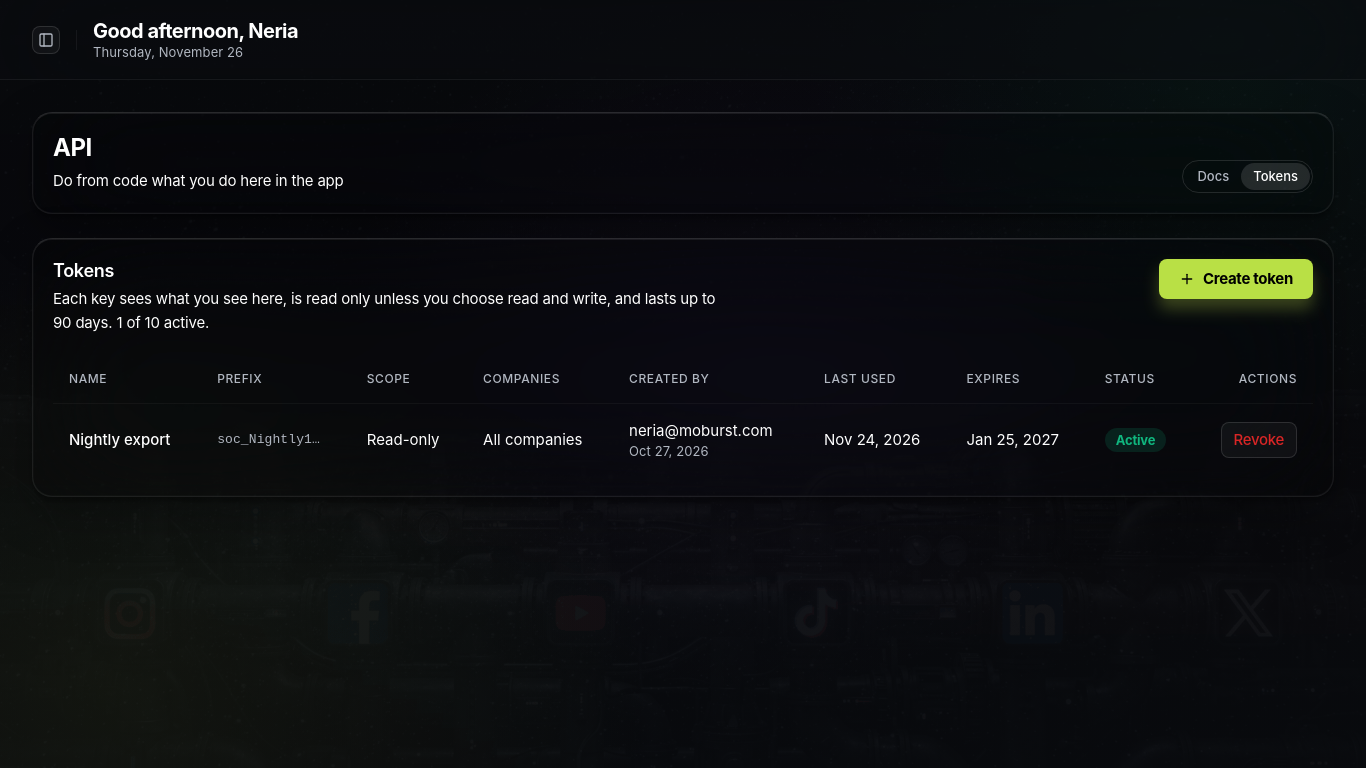
Scenario: a new key whose reply is lost, rate limited, or shown once › after no reply at all, never sends the key again: reads the list again and says to check it first
This screenshot has width=1366, height=768.
Expected: the text "Nightly export" is shown, 53,403 -> 201,476
Step 1. Click the button "Create token" → click(1236, 279), box 1159,259 -> 1313,299
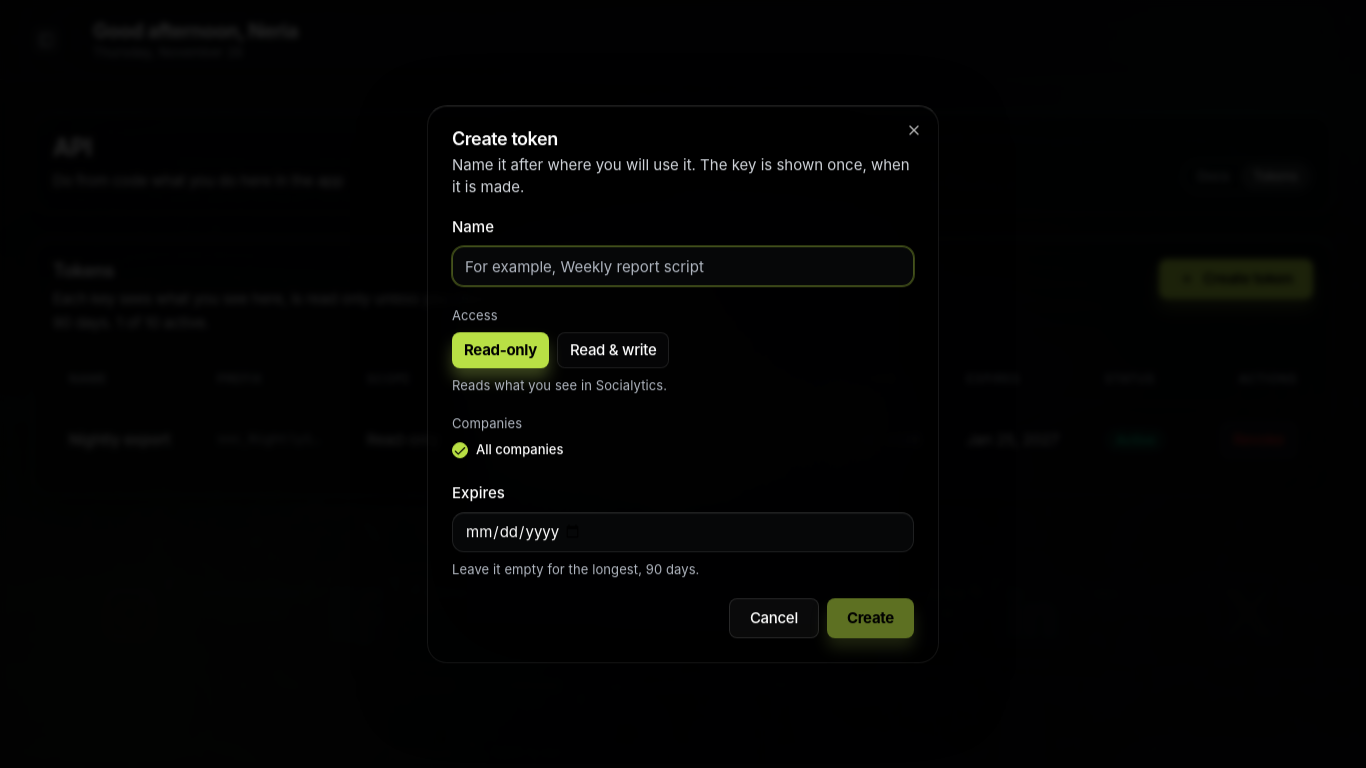
Step 2. Type "Reporting script" into the field labelled "Name" → (683, 266), box 452,246 -> 914,286
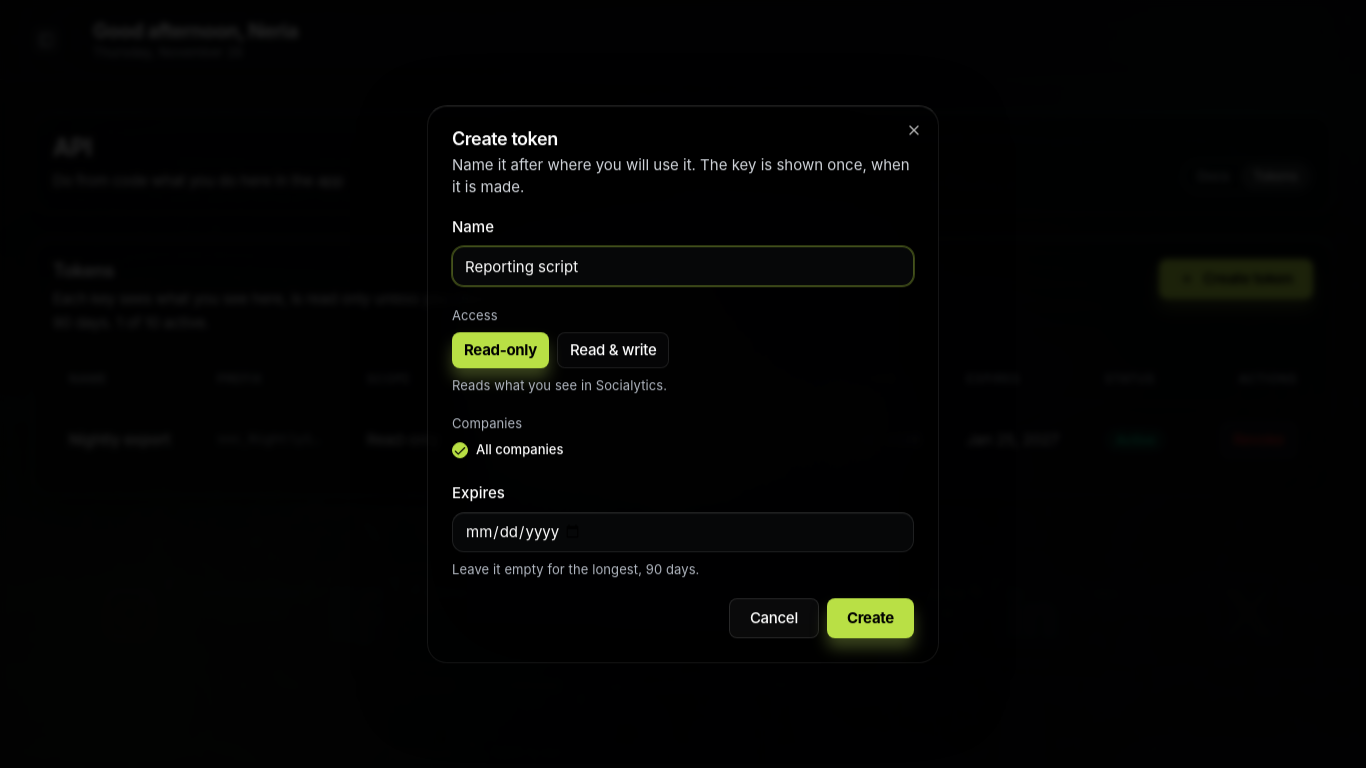
Step 3. Click the button "Create" → click(870, 618), box 827,598 -> 914,638
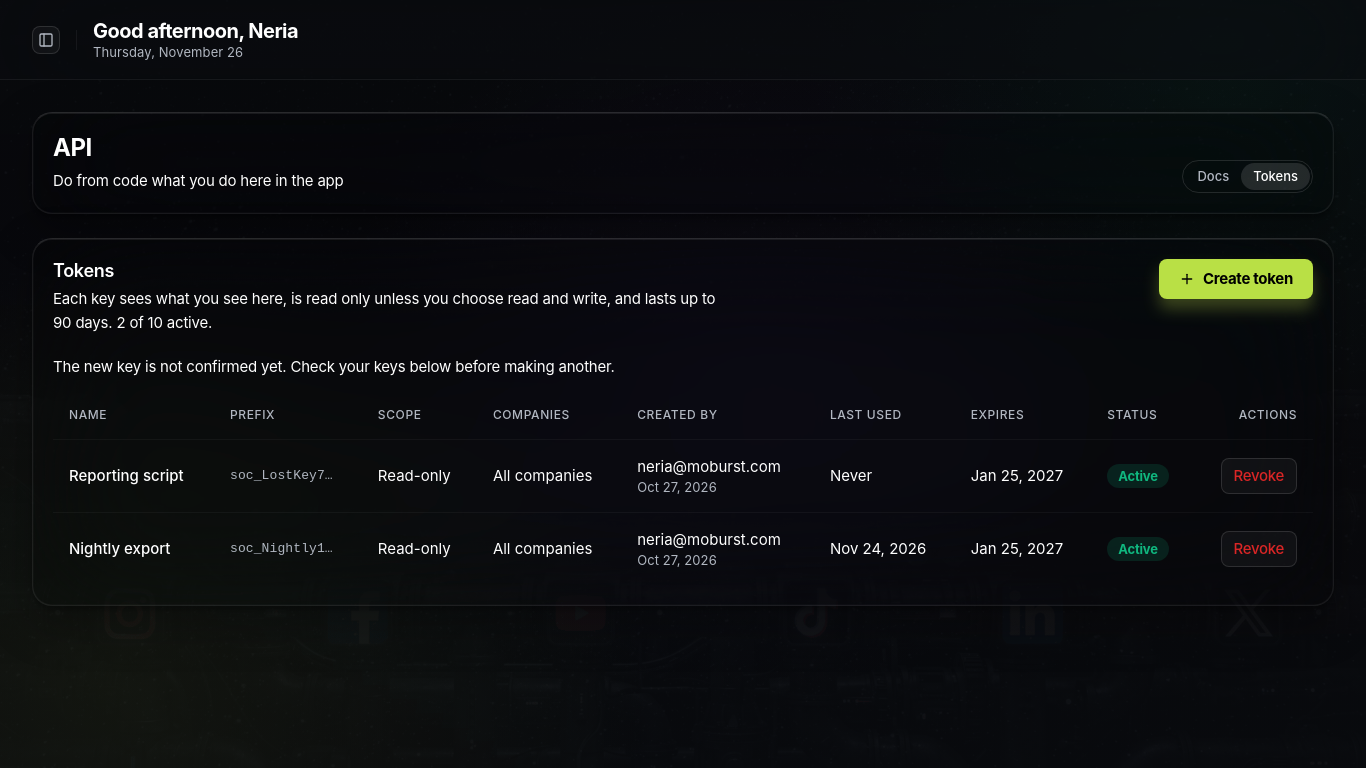
Expected: the text "The new key is not confirmed yet. Check your keys below before making another." is shown, 53,357 -> 615,376
Expected: the dialog is gone
Expected: the text "soc_LostKey7…" is shown, 214,439 -> 362,512
